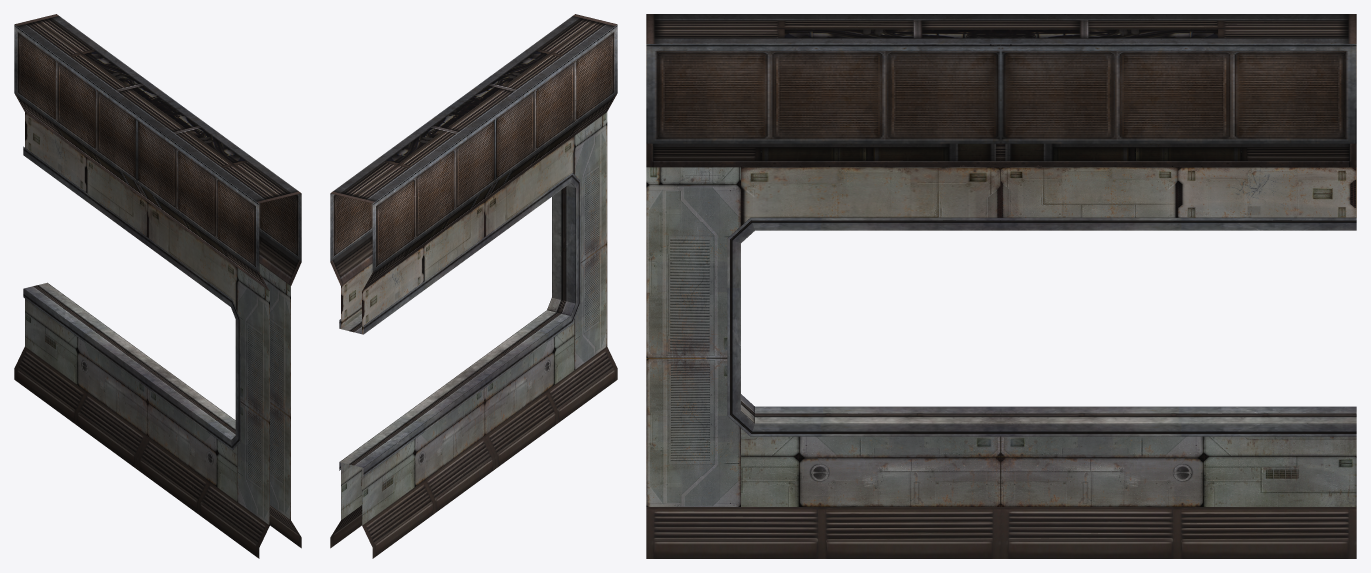
Rendered from ARC_Wall_High_WindowSplit.FBX.
3 renders of one model, left to right at view 1: azimuth 30°, elevation 25°; view 2: azimuth 150°, elevation 25°; view 3: azimuth 270°, elevation 25°, orthographic. The views are drawn at different scales.
Parts seen in each view (by area): view 1: ARC_Wall_High_03_WindowSplit; view 2: ARC_Wall_High_03_WindowSplit; view 3: ARC_Wall_High_03_WindowSplit.
Part boxes in pixels (bbox=[...]): ARC_Wall_High_03_WindowSplit: bbox=[14, 14, 301, 558]; ARC_Wall_High_03_WindowSplit: bbox=[330, 14, 617, 558]; ARC_Wall_High_03_WindowSplit: bbox=[646, 14, 1356, 558].
Bounding box in the file's own units: 50 × 400 × 500.
Materials: 1 (1 with a texture image).
